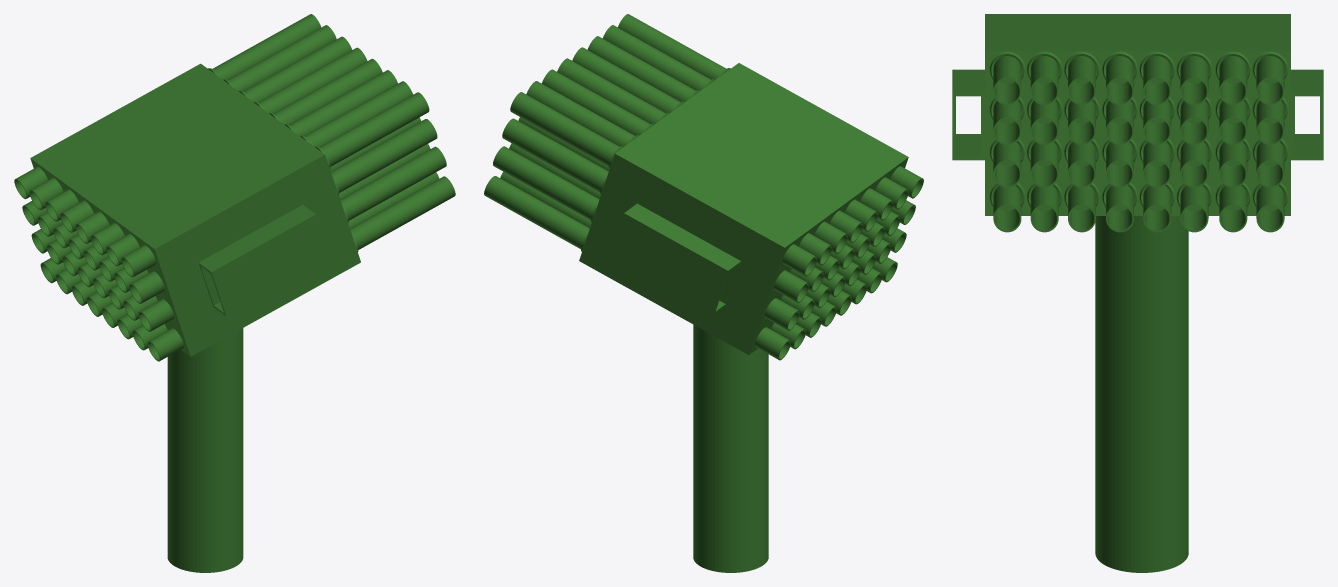
Rendered from launcher12e123w123w.fbx.
3 views of the same model, side by side, from view 1: azimuth 30°, elevation 25°; view 2: azimuth 150°, elevation 25°; view 3: azimuth 270°, elevation 25° (orthographic). The views are drawn at different scales.
Parts seen in each view (by area): view 1: Cube, Cylinder; view 2: Cube, Cylinder; view 3: Cube, Cylinder.
Part boxes in pixels (x1,y1,x2,y2): Cube: (14,14,455,361); Cylinder: (167,328,243,572); Cube: (484,14,923,360); Cylinder: (693,324,768,572); Cube: (952,14,1323,232); Cylinder: (1095,216,1188,572).
Bounding box in the file's own units: 935 × 1269 × 747.
